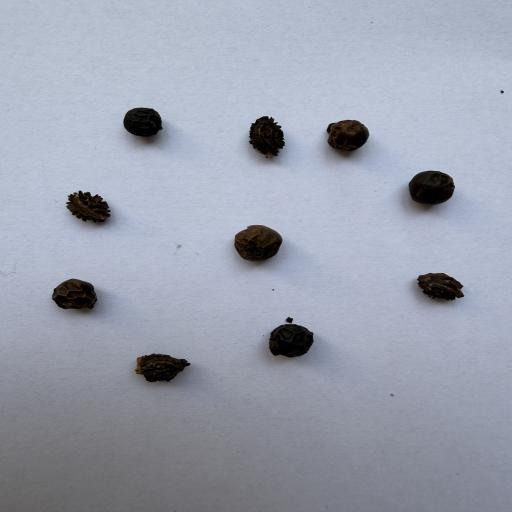Black_pepper: (228, 220, 292, 267), (265, 319, 323, 365), (401, 166, 458, 207), (49, 274, 106, 313), (324, 114, 374, 155), (116, 102, 166, 142)
papaya_seed: (108, 334, 207, 400), (225, 98, 297, 176), (398, 263, 482, 311), (60, 179, 120, 234)
